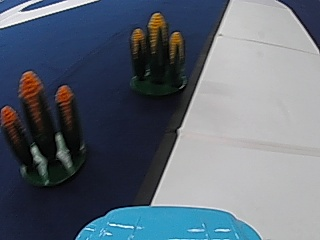corn: (7, 71, 88, 190), (126, 9, 187, 99)
